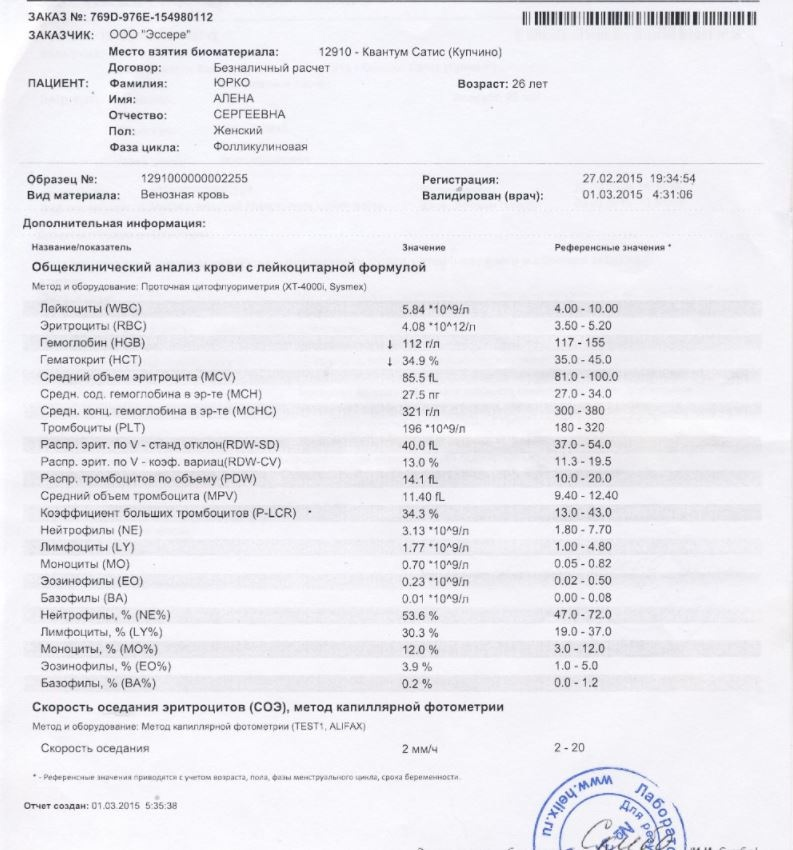column: (39, 301, 296, 690), (401, 301, 475, 690), (554, 301, 618, 690), (39, 741, 150, 754), (554, 242, 665, 252), (31, 242, 132, 252), (401, 741, 438, 754), (402, 242, 446, 252), (554, 741, 585, 754)
